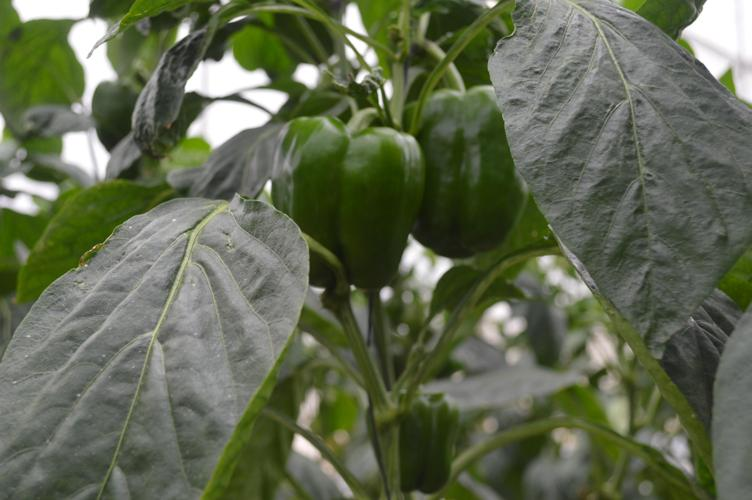BellPepper: (268, 110, 428, 300), (405, 89, 532, 270)
